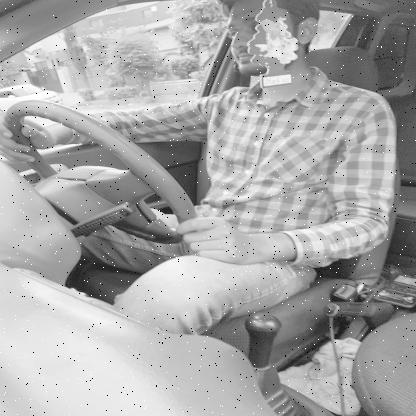no_seatbelt: (168, 0, 328, 201)
